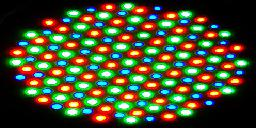LED: (7, 2, 250, 128)
